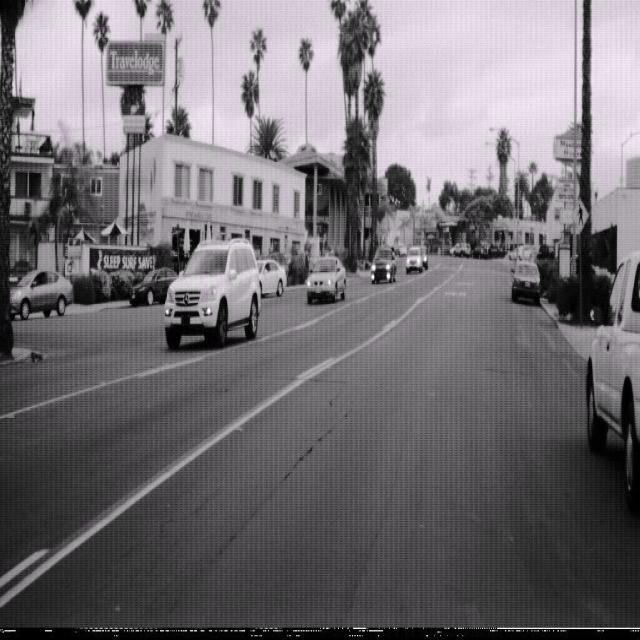pedestrianCrossing: (570, 195, 590, 233)
